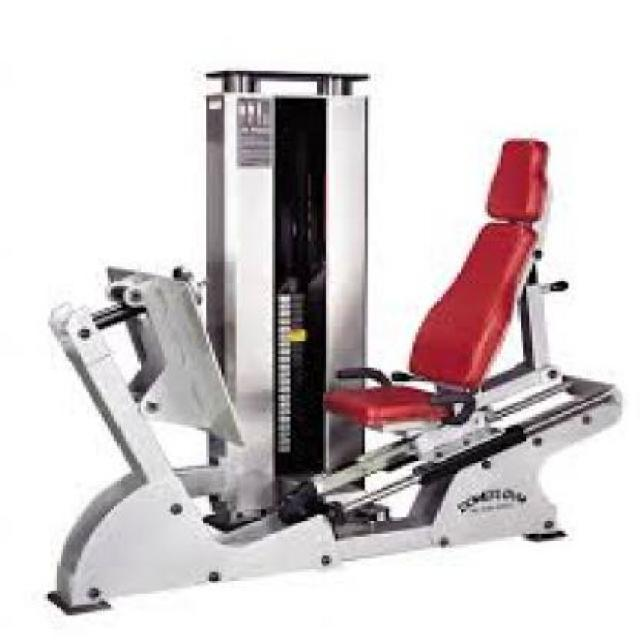leg press: (22, 41, 630, 634)
